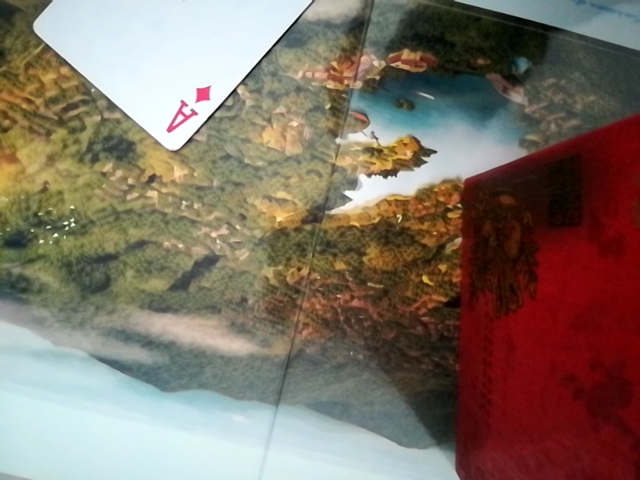fk a: (21, 1, 371, 154)
